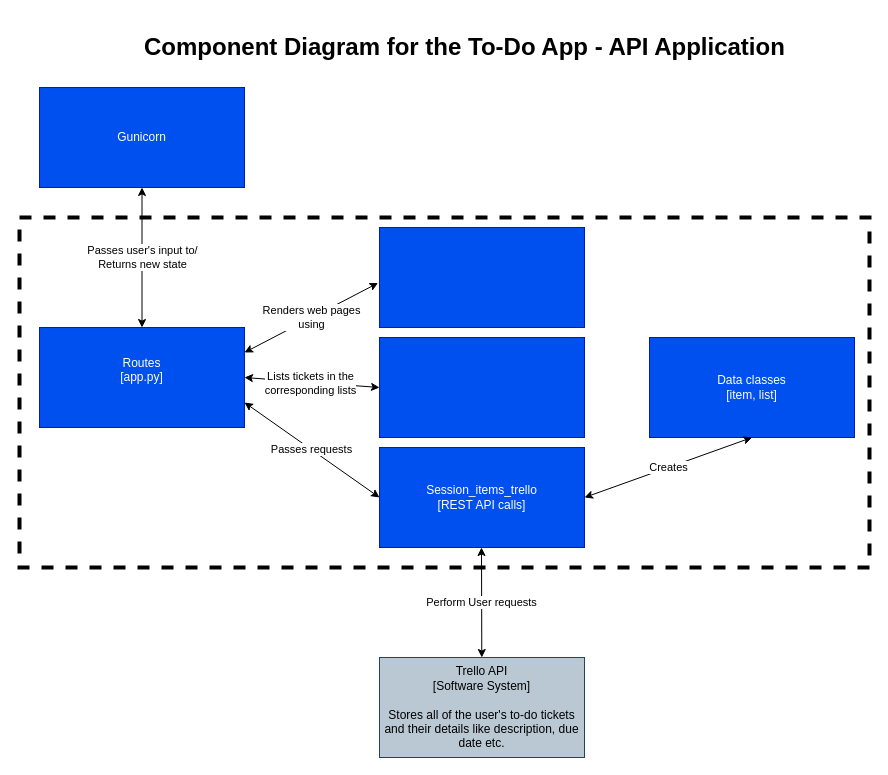
This 888x775 diagram has some shape labels left out. The shapes that lost their labels are listed below. From the top down, each one's box as (x1, y1, x2, y2) in pixels, then its label:
(378, 226, 584, 328): Templates [index, layout]
(378, 336, 584, 438): View Model [items lists]
